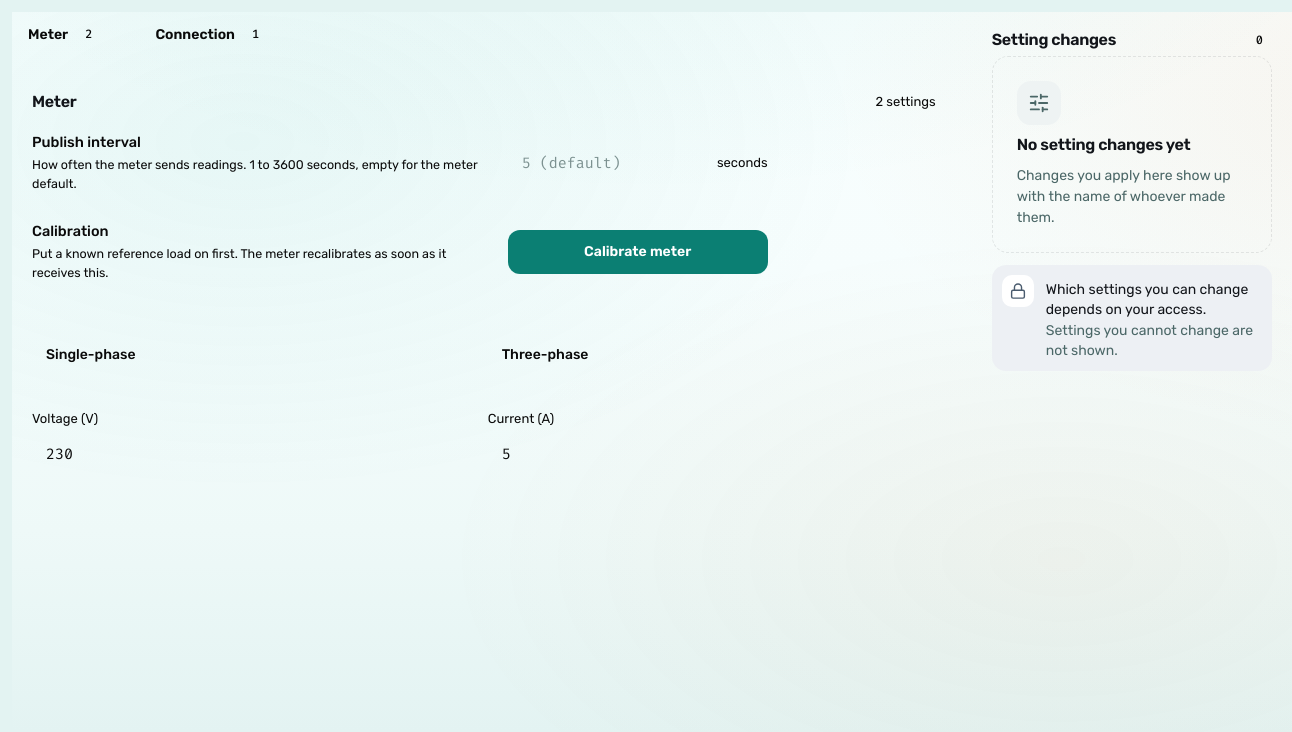
Scenario: G3 meter has only the Meter tab
Expected: the number field named "Publish interval (seconds)" is shown, [508,141,709,185]
Click the tab "Connection 1": [220, 34] box [139,12,300,56]
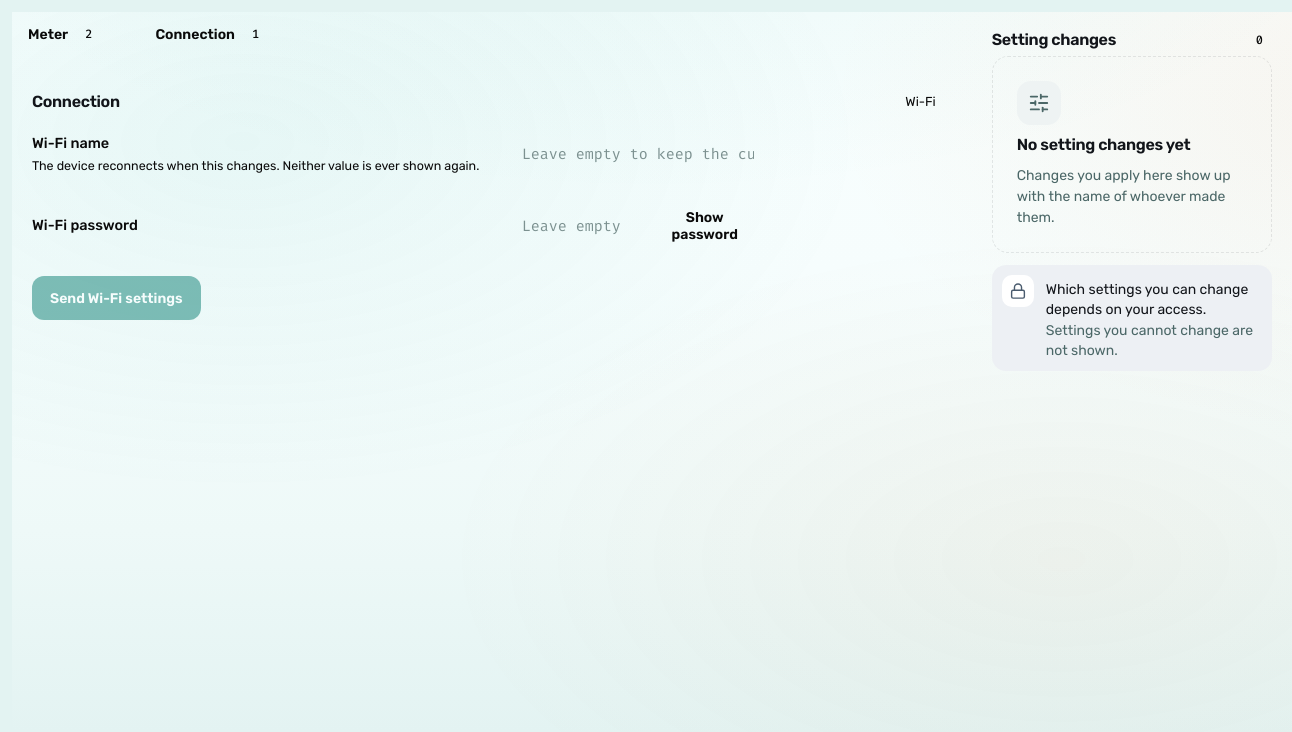
Expected: the field named "Wi-Fi name" is shown, [508,132,768,176]
